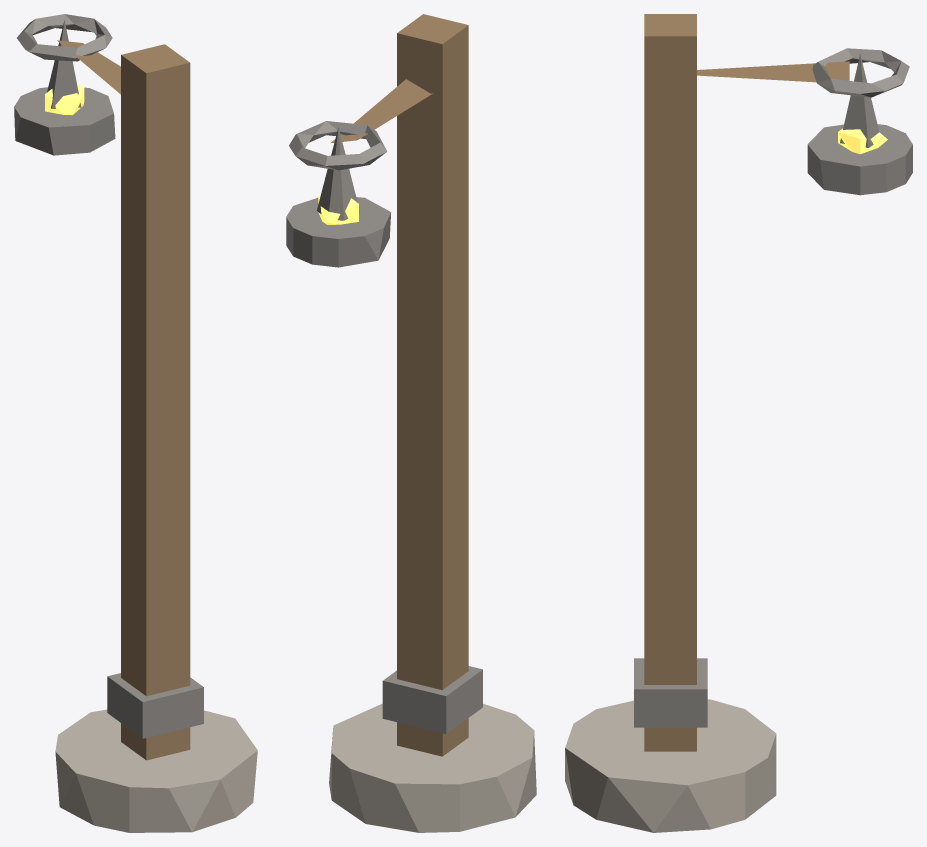
Rendered from 40-Infraestructura_farola_fuego.glb.
3 views of the same model, side by side, from view 1: azimuth 30°, elevation 25°; view 2: azimuth 150°, elevation 25°; view 3: azimuth 270°, elevation 25° (orthographic). The views are drawn at different scales.
Parts seen in each view (by area): view 1: SM_Farola_M_Madera_Farola, SM_Farola_M_Piedra_Farola, SM_Farola_M_Hierro_Farola, SM_Farola_M_Llama_Farola, SM_Farola_M_Brasa_Farola; view 2: SM_Farola_M_Madera_Farola, SM_Farola_M_Piedra_Farola, SM_Farola_M_Hierro_Farola, SM_Farola_M_Llama_Farola, SM_Farola_M_Brasa_Farola; view 3: SM_Farola_M_Madera_Farola, SM_Farola_M_Piedra_Farola, SM_Farola_M_Hierro_Farola, SM_Farola_M_Llama_Farola, SM_Farola_M_Brasa_Farola.
Part boxes in pixels (x1,y1,x2,y2): SM_Farola_M_Madera_Farola: [57, 40, 190, 760]; SM_Farola_M_Piedra_Farola: [55, 709, 257, 832]; SM_Farola_M_Hierro_Farola: [14, 14, 203, 738]; SM_Farola_M_Llama_Farola: [47, 20, 81, 108]; SM_Farola_M_Brasa_Farola: [45, 84, 84, 115]; SM_Farola_M_Madera_Farola: [330, 14, 468, 756]; SM_Farola_M_Piedra_Farola: [329, 703, 536, 832]; SM_Farola_M_Hierro_Farola: [286, 121, 482, 733]; SM_Farola_M_Llama_Farola: [317, 127, 360, 220]; SM_Farola_M_Brasa_Farola: [318, 196, 358, 224]; SM_Farola_M_Madera_Farola: [644, 14, 849, 751]; SM_Farola_M_Piedra_Farola: [565, 699, 776, 832]; SM_Farola_M_Hierro_Farola: [634, 48, 912, 727]; SM_Farola_M_Llama_Farola: [840, 54, 879, 147]; SM_Farola_M_Brasa_Farola: [838, 128, 887, 154].
Bounding box in the file's own units: 0.4013 × 1.6 × 0.6607.
